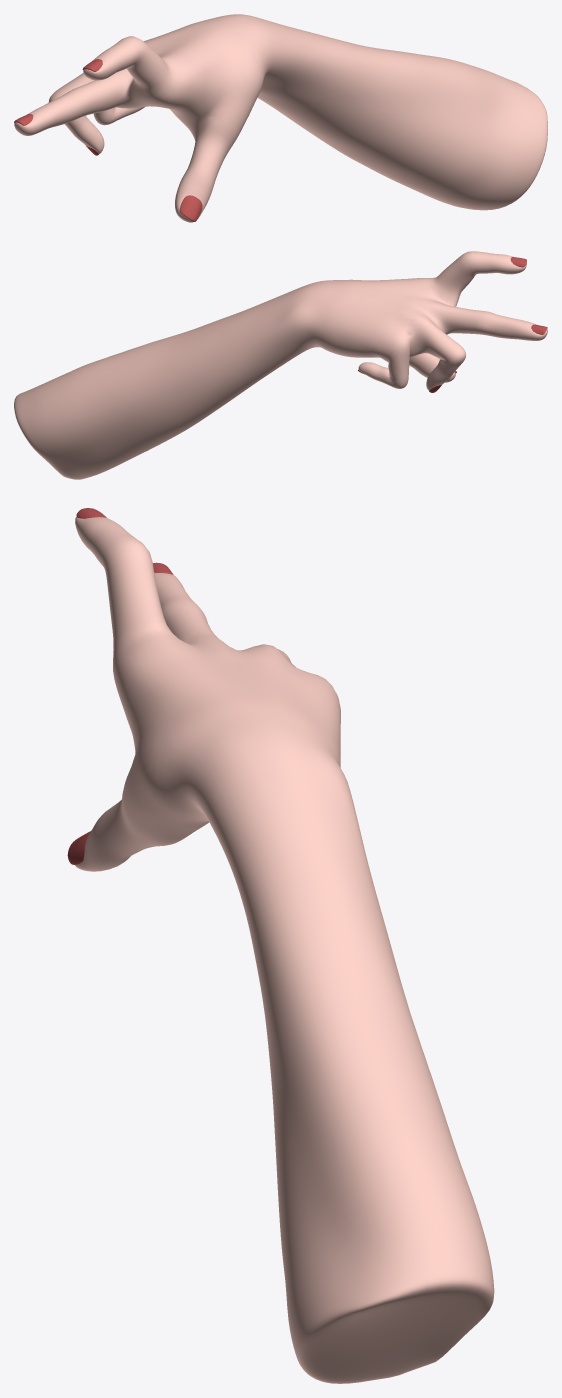
The model's file is hand-static.glb.
3 views of the same model, one above another, from view 1: azimuth 30°, elevation 25°; view 2: azimuth 150°, elevation 25°; view 3: azimuth 270°, elevation 25° (orthographic). The views are drawn at different scales.
Parts seen in each view (by area): view 1: Hand, Nail_Thumb; view 2: Hand; view 3: Hand.
Part boxes in pixels (box(x1,y1,x2,y2)): Hand: box(14, 14, 547, 222); Nail_Thumb: box(179, 195, 202, 221); Hand: box(14, 251, 547, 479); Hand: box(75, 516, 494, 1383).
Bounding box in the file's own units: 2.56 × 1.34 × 1.01.
